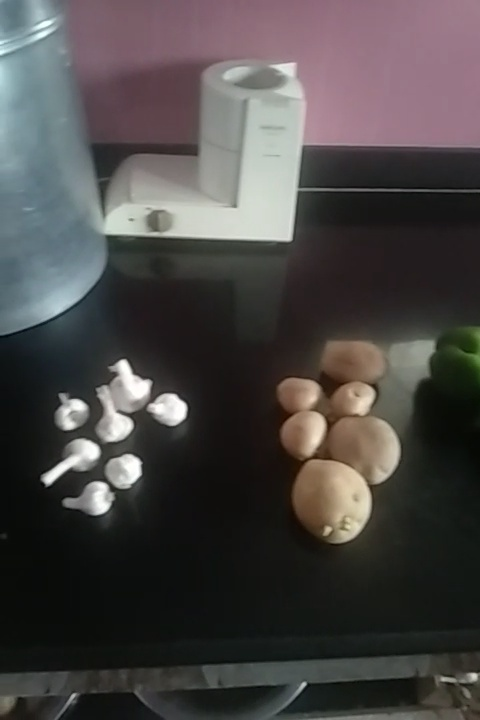capsicum: (430, 326, 480, 397)
garlic: (38, 430, 97, 490), (86, 398, 136, 447), (62, 484, 118, 527), (100, 363, 150, 411), (95, 451, 146, 492), (49, 391, 85, 435), (144, 397, 185, 432)
potato: (285, 454, 375, 544), (334, 413, 398, 487), (320, 337, 390, 390), (283, 409, 328, 461), (333, 385, 381, 421), (278, 380, 320, 416)
